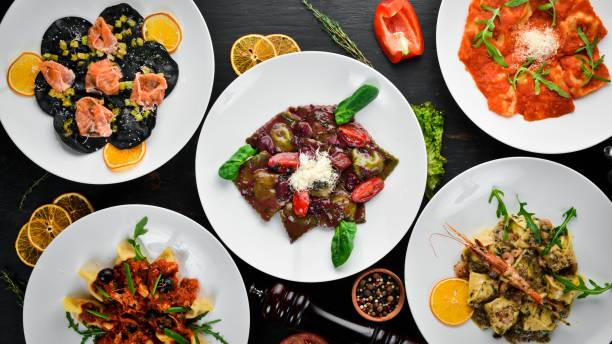Braised Crucian Carp: (197, 50, 419, 283), (2, 0, 216, 188), (403, 156, 607, 343), (22, 203, 244, 344), (435, 1, 611, 156)
